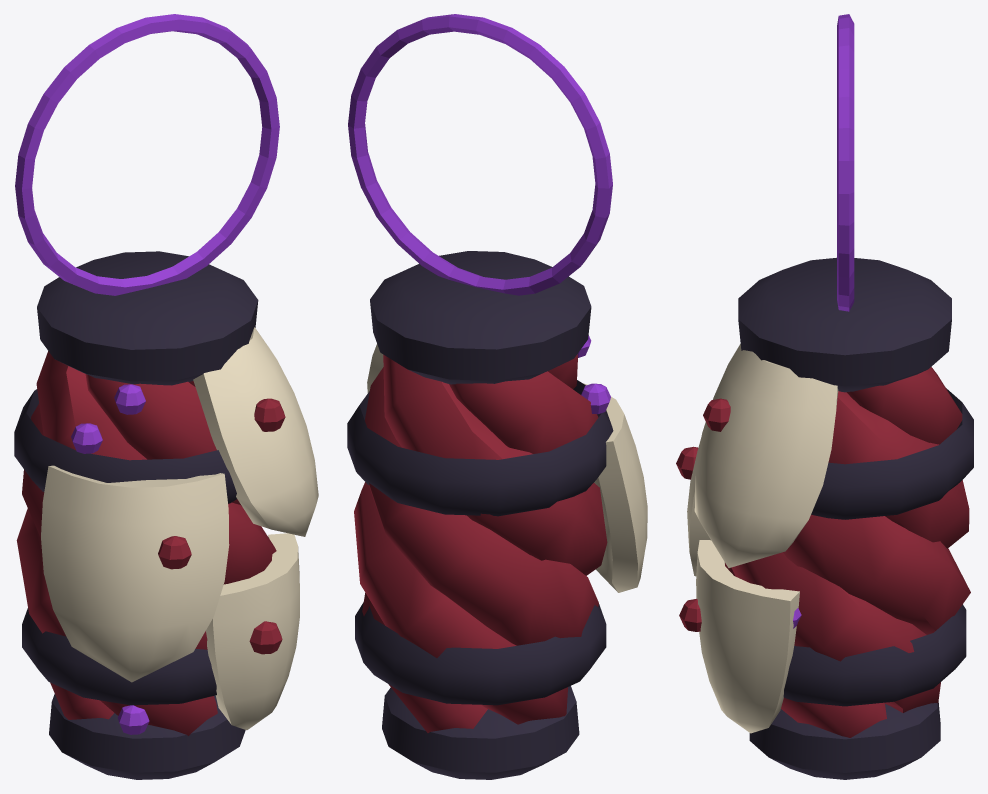
The model's file is Kit_Limb_AoeSinew_S.glb.
The picture shows the model from 3 angles, left to right: view 1: azimuth 30°, elevation 25°; view 2: azimuth 150°, elevation 25°; view 3: azimuth 270°, elevation 25°; orthographic projection.
Visible parts, largest first — view 1: Kit_Limb_AoeSinew_S; view 2: Kit_Limb_AoeSinew_S; view 3: Kit_Limb_AoeSinew_S.
Boxes of the visible parts, box(x1,y1,x2,y2) form: Kit_Limb_AoeSinew_S: box(14, 14, 318, 779); Kit_Limb_AoeSinew_S: box(347, 14, 647, 779); Kit_Limb_AoeSinew_S: box(676, 14, 973, 779).
Bounding box in the file's own units: 0.1165 × 0.3118 × 0.1166.
